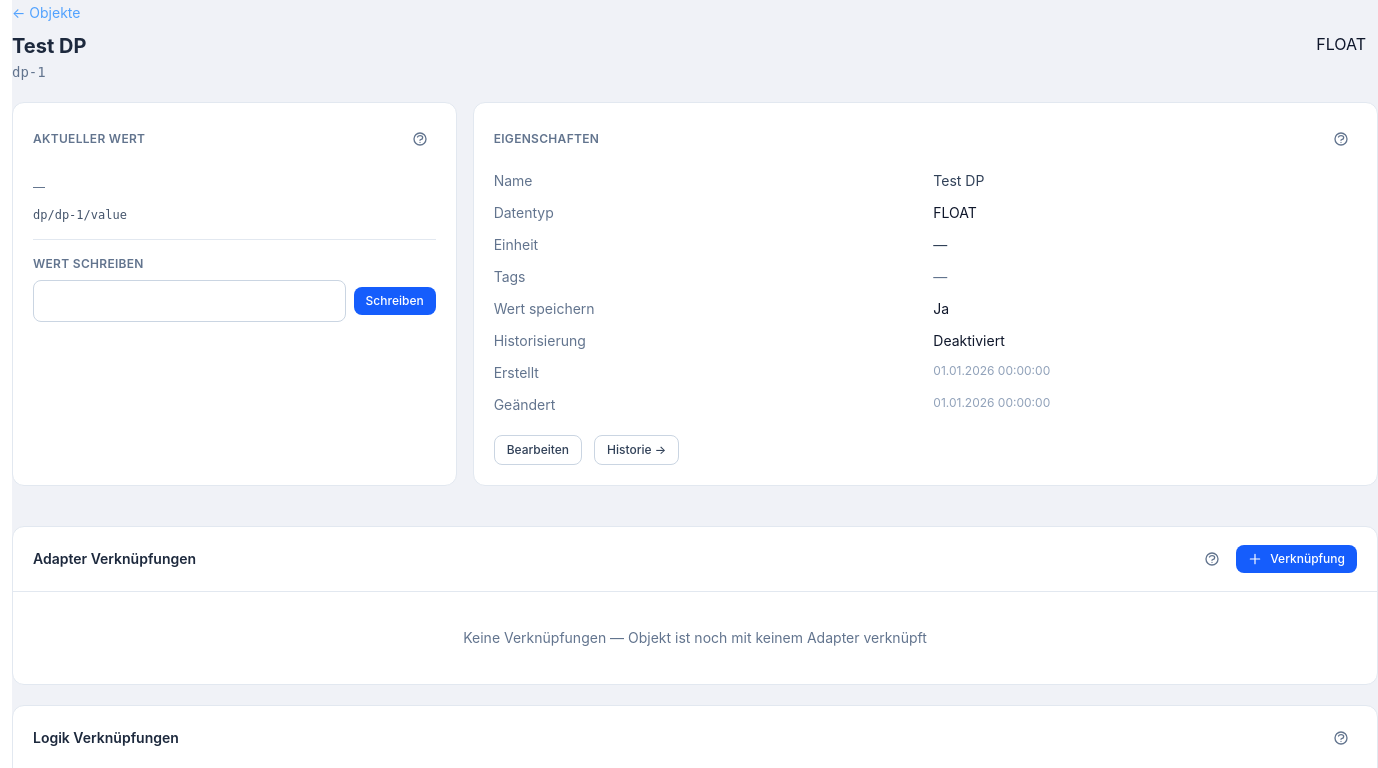
Test: DataPointDetailView — write success feedback › shows success text after successful write
In the field: (189, 301) [33,280,346,322], type "23.5"
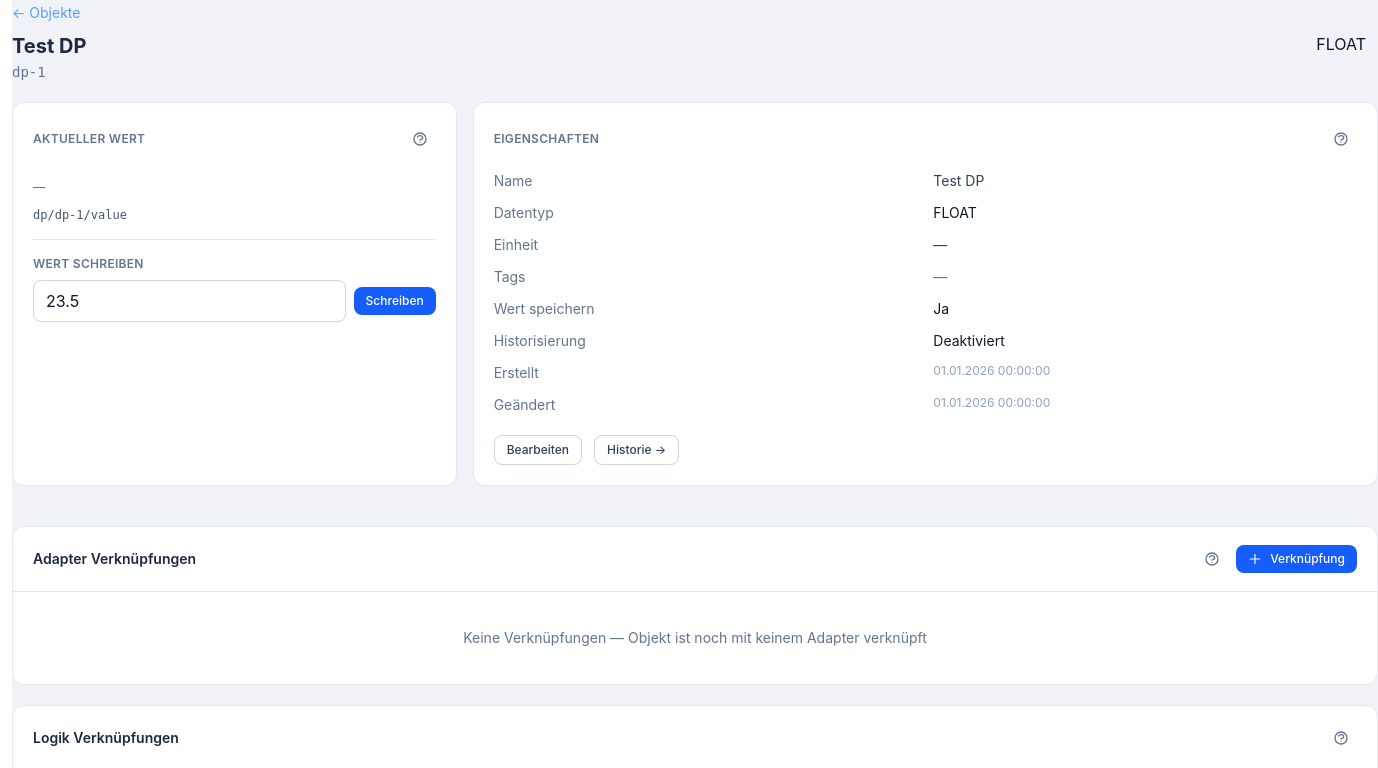
Click the button "Schreiben": click(395, 301) [354,287,436,315]
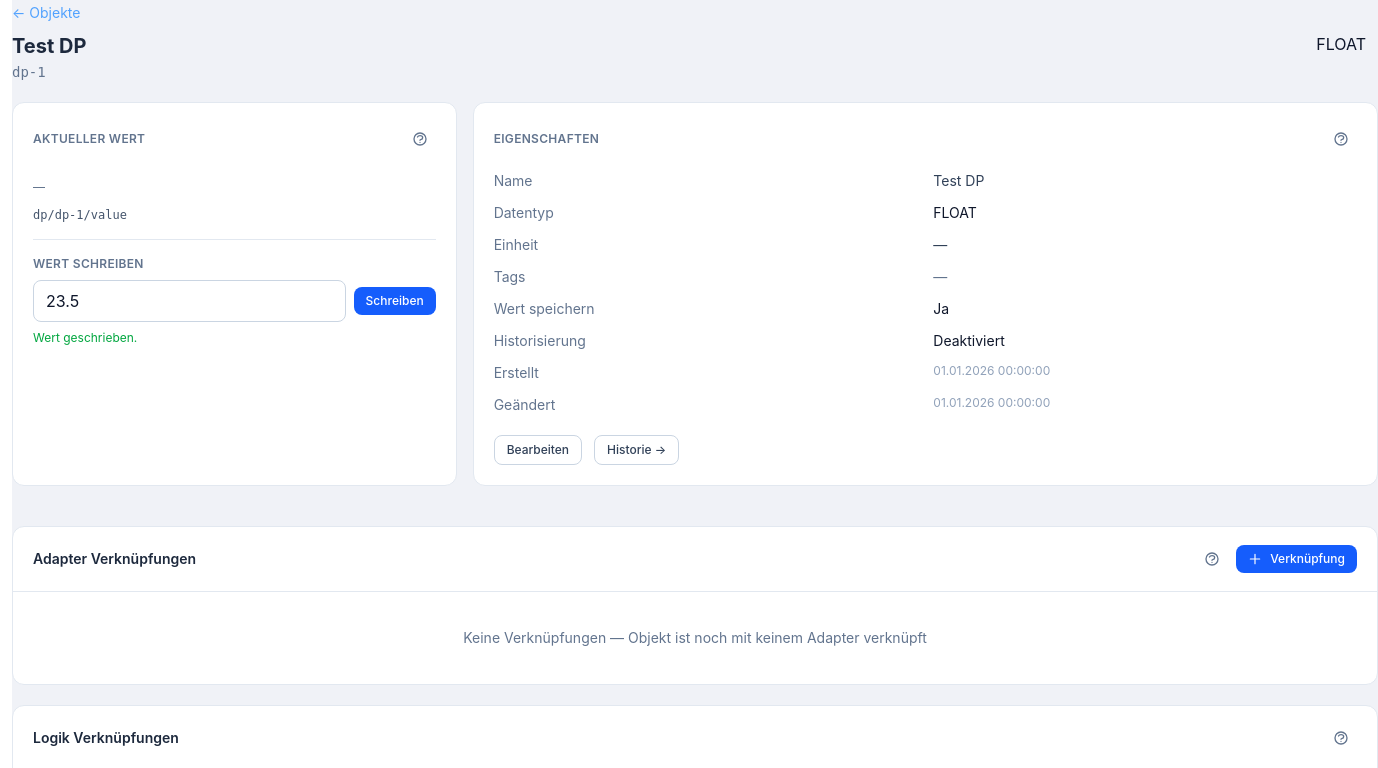
Expected: the text "Wert geschrieben." is shown, [33,330,137,345]
